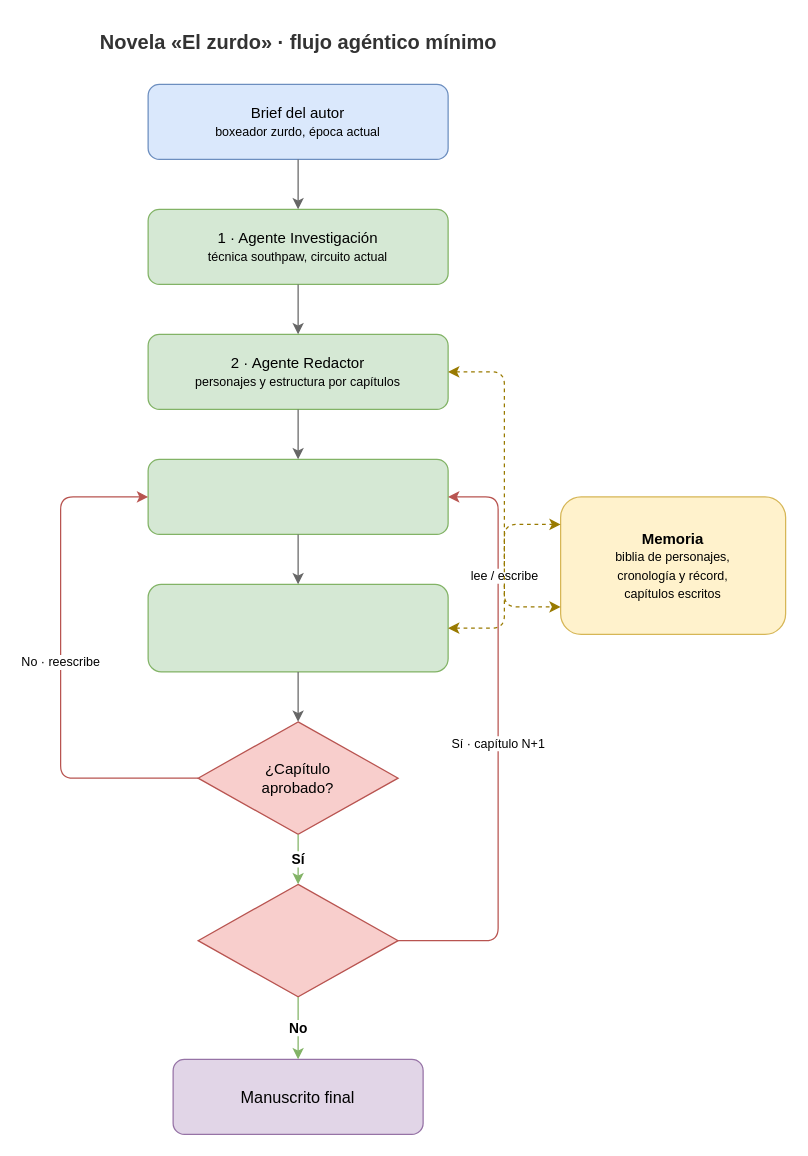
This 808x1156 diagram has some shape labels left out. The box of each missing label's shape, as (x1, y1, x2, y2) in pixels:
3 · Agente Escritor redacta el capítulo N: (147, 458, 448, 534)
4 · Agente Revisor continuidad, estilo y verosimilitud del combate: (147, 583, 448, 672)
¿Quedan capítulos?: (197, 883, 398, 997)
